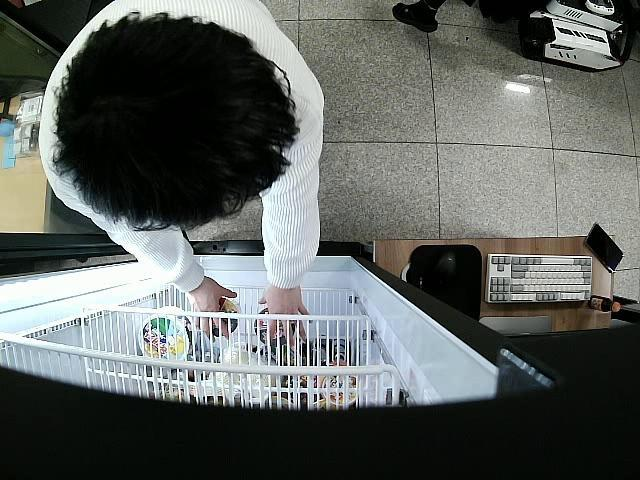08_buldak_S: (255, 310, 296, 346), (209, 297, 238, 338)
